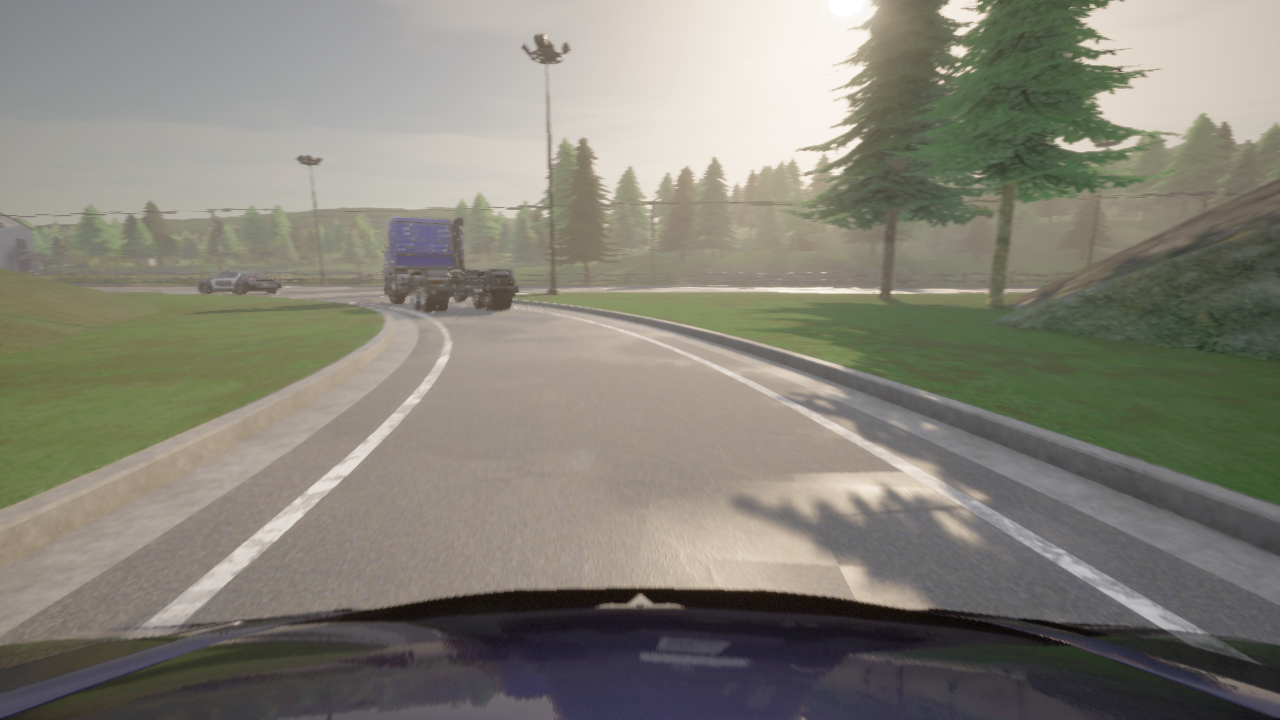cyclist: (0, 588, 1279, 719), (374, 217, 517, 312), (198, 268, 281, 294)
